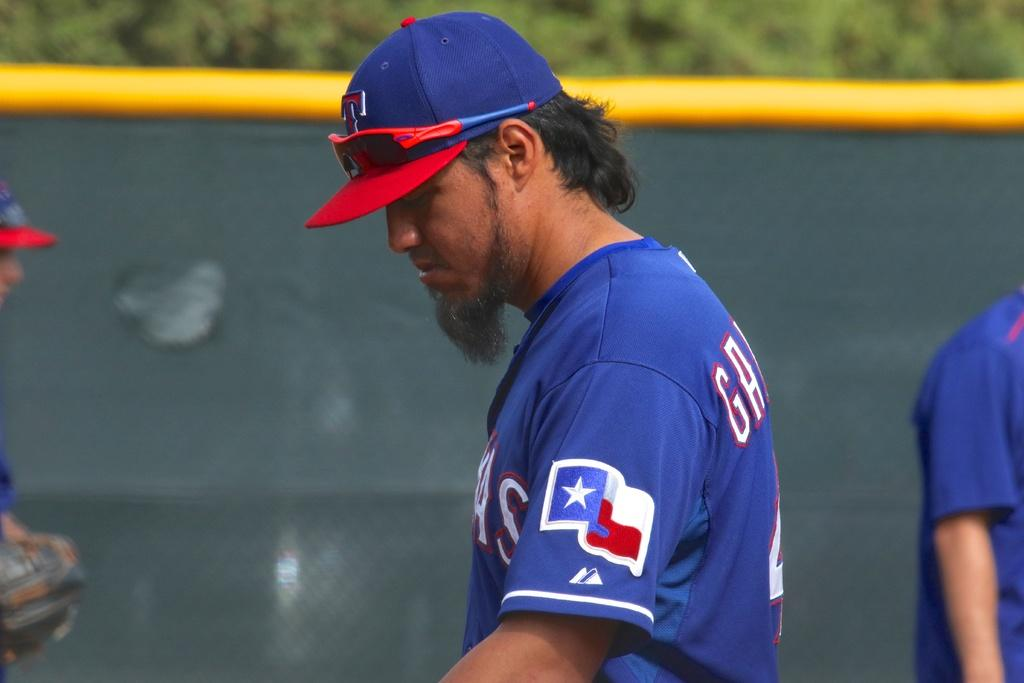Hat: (299, 7, 565, 228), (0, 180, 56, 249)
